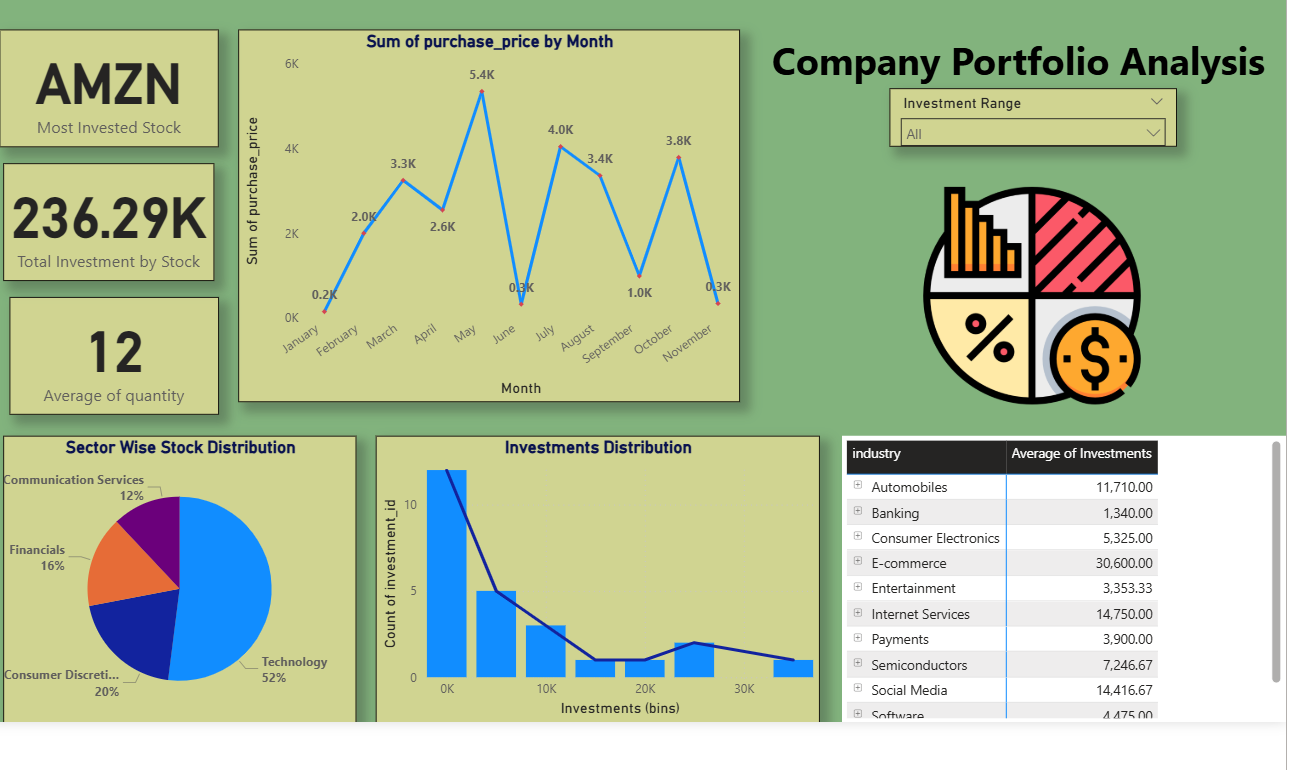

Layout of this report page (visuals, bound fields, positions):
{"tool":"powerbi","page":{"name":"Page 2","canvas":[1280,720],"ordinal":1},"visuals":[{"type":"card","fields":{"Values":["portfoliomanagement portfolios.Most Invested Stock"]},"box":[12.7,36.6,216.3,116.1],"z":0},{"type":"card","fields":{"Values":["portfoliomanagement investments.Total Investment by Stock"]},"box":[15.9,168.6,208.4,116.1],"z":1000},{"type":"card","fields":{"Values":["Avg(portfoliomanagement investments.quantity)"]},"box":[22.3,300.6,206.8,116.1],"z":2000},{"type":"lineChart","fields":{"Category":["portfoliomanagement investments.purchase_date.Variation.Date Hierarchy.Year","portfoliomanagement investments.purchase_date.Variation.Date Hierarchy.Quarter","portfoliomanagement investments.purchase_date.Variation.Date Hierarchy.Month","portfoliomanagement investments.purchase_date.Variation.Date Hierarchy.Day"],"Y":["Sum(portfoliomanagement investments.purchase_price)"]},"box":[248.1,36.6,494.7,367.4],"z":3000},{"type":"pieChart","title":"Sector Wise Stock Distribution","fields":{"Category":["portfoliomanagement stocks.sector"],"Y":["CountNonNull(portfoliomanagement investments.stock_id)"]},"box":[15.9,437.4,348.3,283.1],"z":4000},{"type":"lineClusteredColumnComboChart","title":"Investments Distribution","fields":{"Category":["portfoliomanagement investments.Investments (bins)"],"Y":["CountNonNull(portfoliomanagement investments.investment_id)"],"Y2":["CountNonNull(portfoliomanagement investments.investment_id)"]},"box":[383.3,437.4,437.4,283.1],"z":5000},{"type":"pivotTable","fields":{"Values":["Avg(portfoliomanagement investments.Investments)"],"Rows":["portfoliomanagement stocks.industry","portfoliomanagement stocks.sector"]},"box":[843,437.4,437.4,283.1],"z":6000},{"type":"textbox","box":[768.3,36.6,512.2,70],"z":6001},{"type":"image","box":[843,187.7,373.8,224.3],"z":6002},{"type":"slicer","fields":{"Values":["portfoliomanagement investments.Investment Range"]},"box":[889.2,95.4,283.1,57.3],"z":6003}]}

Visuals, with their boxes on the page's 1280x720 design canvas (x1, y1, x2, y2). These are canvas units, not pixel positions in the 1293x770 screenshot, which may show the page scaled, cropped or inside an application window:
card - portfoliomanagement portfolios.Most Invested Stock: rect(13, 37, 229, 153)
card - portfoliomanagement investments.Total Investment by Stock: rect(16, 169, 224, 285)
card - Avg(portfoliomanagement investments.quantity): rect(22, 301, 229, 417)
lineChart - portfoliomanagement investments.purchase_date.Variation.Date Hierarchy.Year x portfoliomanagement investments.purchase_date.Variation.Date Hierarchy.Quarter: rect(248, 37, 743, 404)
"Sector Wise Stock Distribution" pieChart: rect(16, 437, 364, 720)
"Investments Distribution" lineClusteredColumnComboChart: rect(383, 437, 821, 720)
pivotTable - Avg(portfoliomanagement investments.Investments) x portfoliomanagement stocks.industry: rect(843, 437, 1280, 720)
textbox: rect(768, 37, 1280, 107)
image: rect(843, 188, 1217, 412)
slicer - portfoliomanagement investments.Investment Range: rect(889, 95, 1172, 153)
